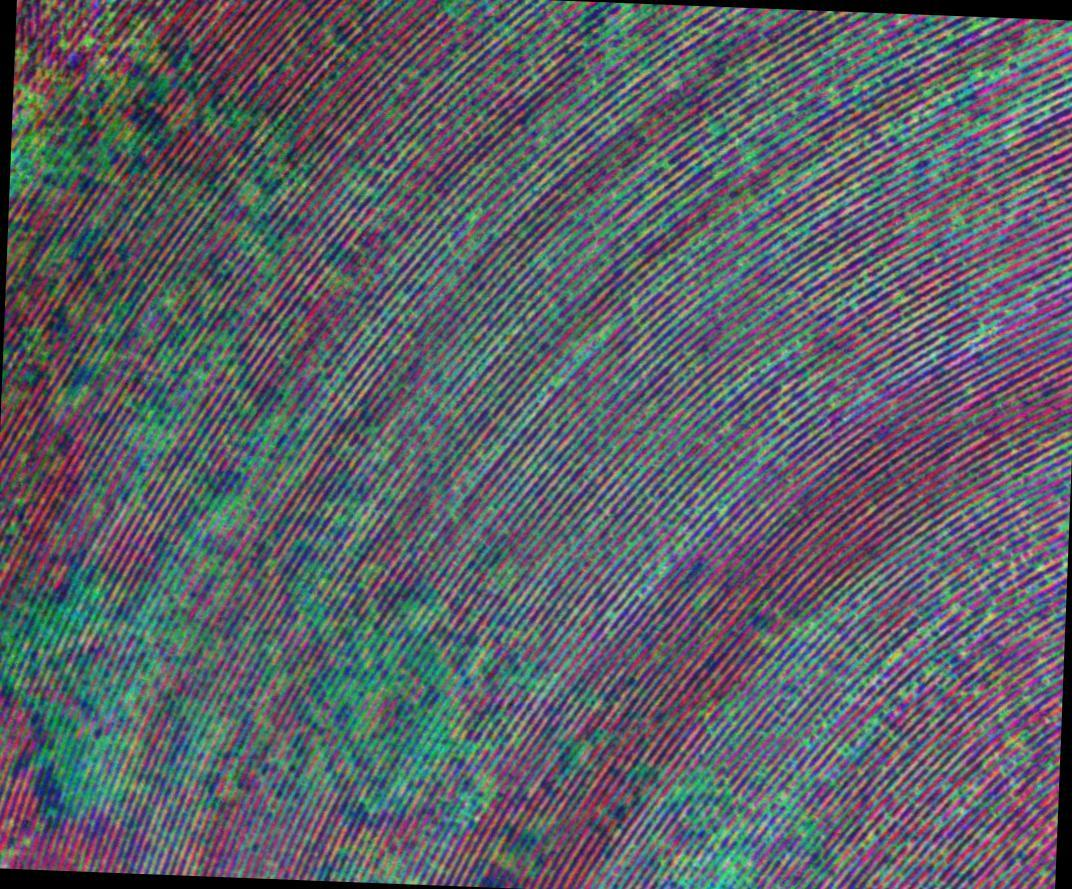dc: (633, 305, 638, 309), (93, 592, 98, 596), (889, 126, 893, 130), (497, 449, 501, 453), (68, 796, 71, 799)
